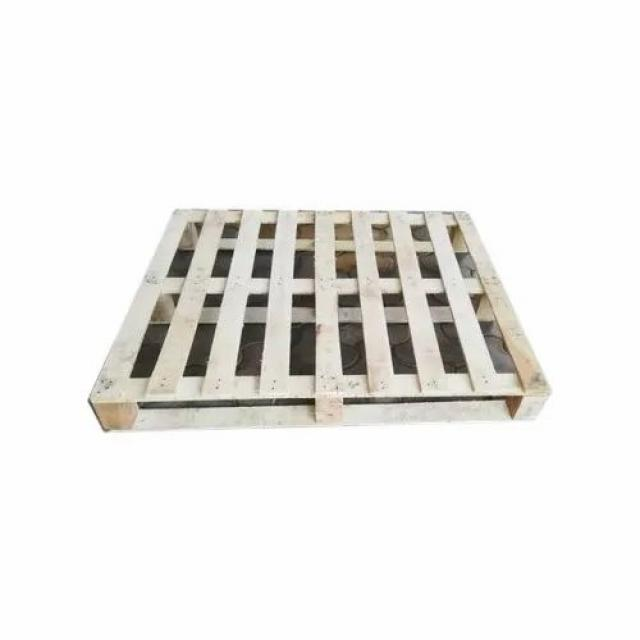Palette: (83, 197, 562, 442)
